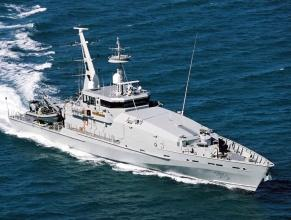otherboat: (11, 26, 279, 189)
